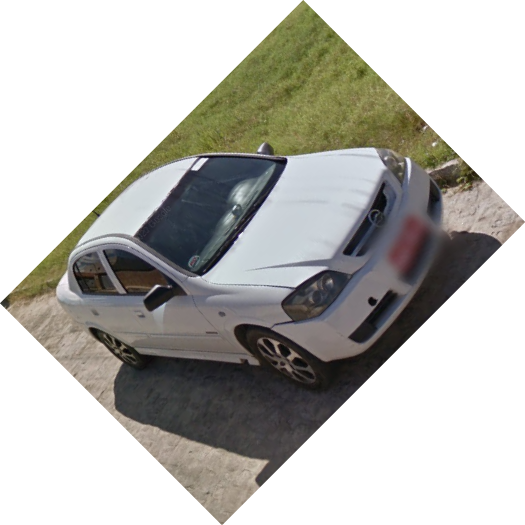car: (50, 151, 450, 391)
